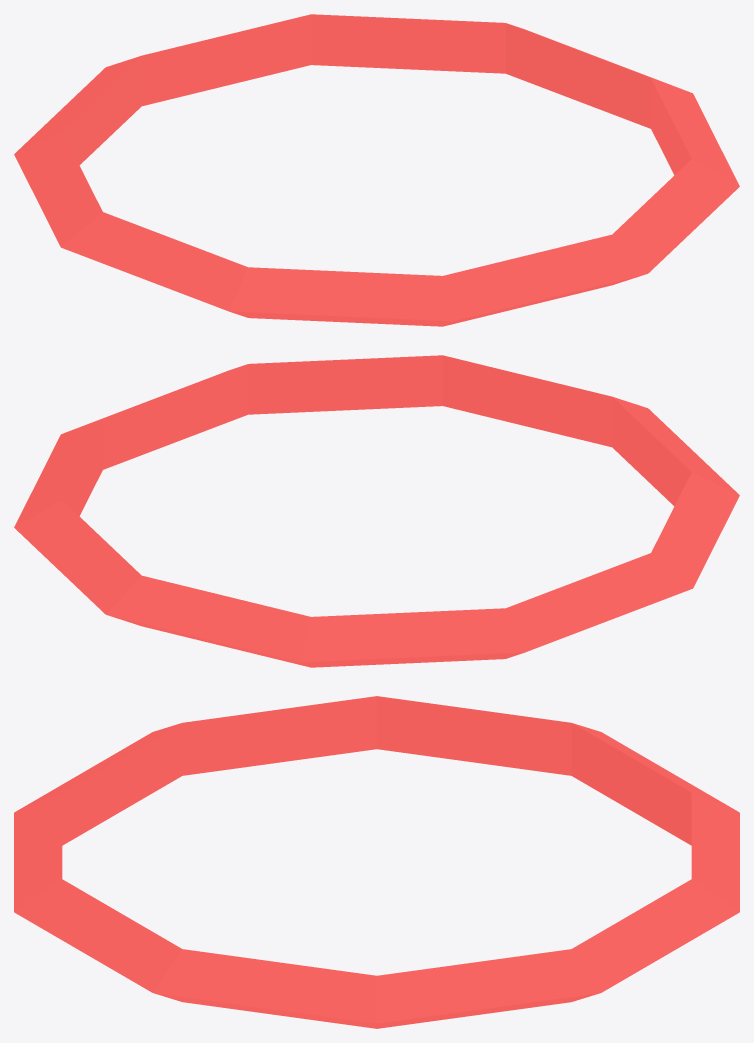
3 views of the same model, one above another, from view 1: azimuth 30°, elevation 25°; view 2: azimuth 150°, elevation 25°; view 3: azimuth 270°, elevation 25° (orthographic). The views are drawn at different scales.
Visible parts, largest first — view 1: Torus.001; view 2: Torus.001; view 3: Torus.001.
Part boxes in pixels (x1=…): Torus.001: x1=14, y1=14, x2=739, y2=326; Torus.001: x1=14, y1=355, x2=739, y2=667; Torus.001: x1=14, y1=696, x2=739, y2=1028.
Size of the model in its own units: 5.64 by 0.433 by 5.36.
